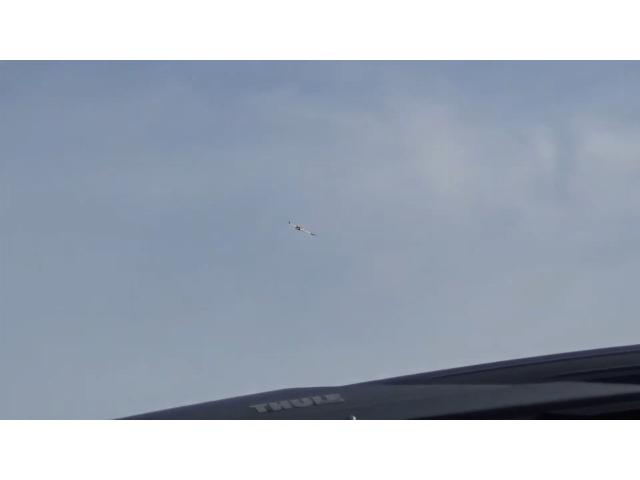Anti-Drone: (288, 222, 316, 236)
